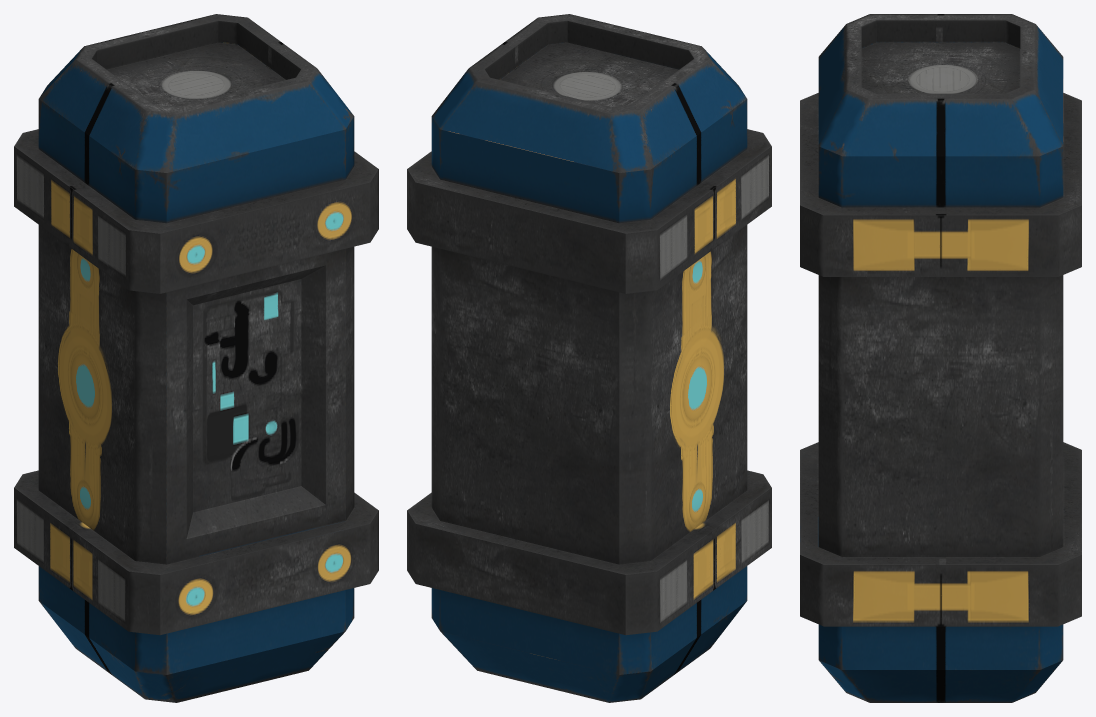
Rendered from LootBox.obj.
3 views of the same model, side by side, from view 1: azimuth 30°, elevation 25°; view 2: azimuth 150°, elevation 25°; view 3: azimuth 270°, elevation 25° (orthographic). The views are drawn at different scales.
Parts seen in each view (by area): view 1: Scifi_Crate_hp_lambert1_0; view 2: Scifi_Crate_hp_lambert1_0; view 3: Scifi_Crate_hp_lambert1_0.
Boxes of the visible parts, x1,y1,x2,y2 form: Scifi_Crate_hp_lambert1_0: (14,14,378,702); Scifi_Crate_hp_lambert1_0: (407,14,771,702); Scifi_Crate_hp_lambert1_0: (800,14,1081,702).
Size of the model in its own units: 24.07 by 54.12 by 22.92.
Materials: 1 (1 with a texture image).
